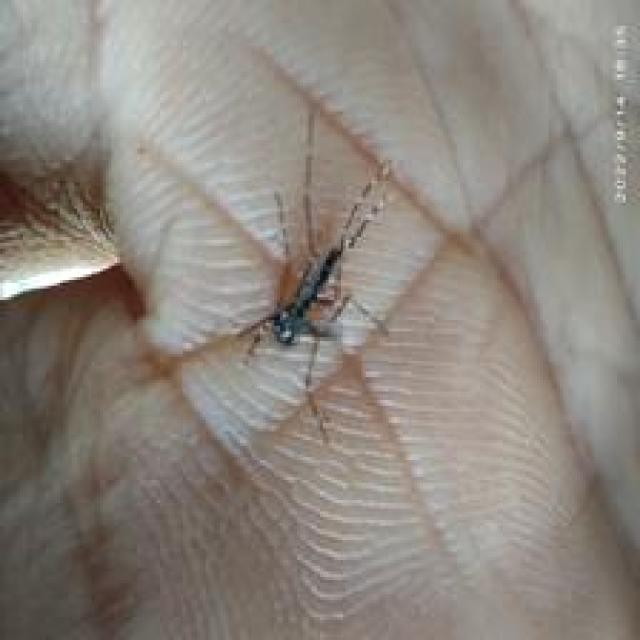Aedes albopictus: (232, 108, 397, 443)
